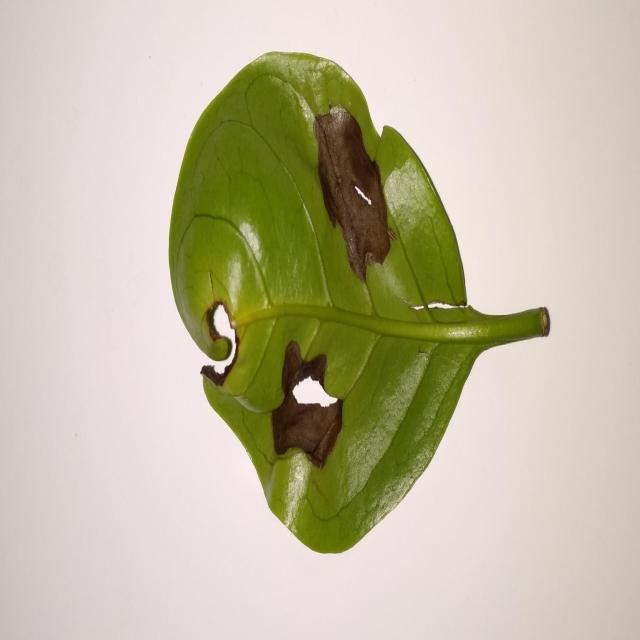Enfermedad-Antracnosis: (167, 51, 551, 558)
